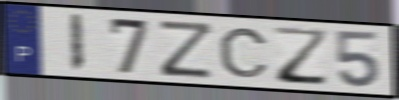5: (333, 30, 382, 90)
7: (107, 15, 152, 76)
C: (217, 26, 272, 80)
I: (67, 12, 86, 74)
Z: (271, 25, 331, 88), (157, 18, 217, 80)
